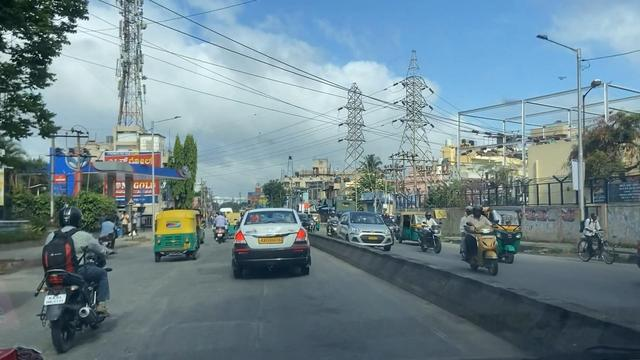LMV: (38, 209, 108, 333), (233, 213, 312, 277), (153, 211, 201, 257)
UnsurfacedRoad: (133, 283, 260, 358)
